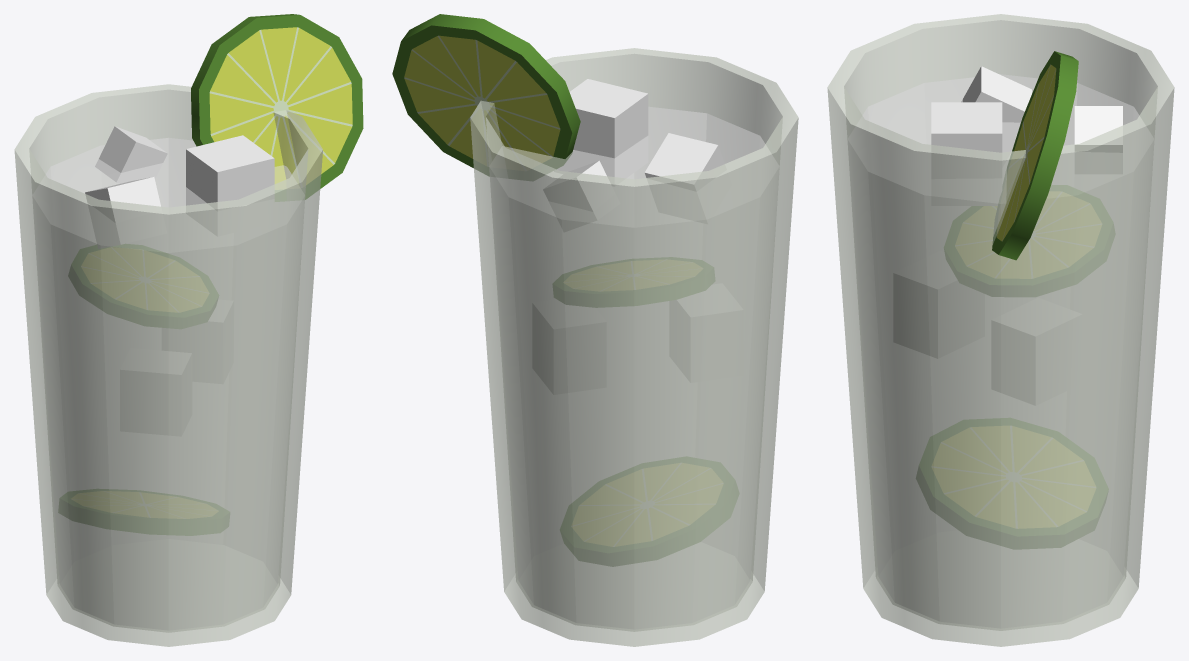
File: Gin_and_tonic.fbx
The picture shows the model from 3 angles, left to right: view 1: azimuth 30°, elevation 25°; view 2: azimuth 150°, elevation 25°; view 3: azimuth 270°, elevation 25°; orthographic projection. The views are drawn at different scales.
Parts seen in each view (by area): view 1: Gin_and_tonic; view 2: Gin_and_tonic; view 3: Gin_and_tonic.
Boxes of the visible parts, <box> form: Gin_and_tonic: <box>14,14,363,646</box>; Gin_and_tonic: <box>392,14,798,646</box>; Gin_and_tonic: <box>827,14,1174,646</box>.
Size of the model in its own units: 30.22 by 44.99 by 23.75.
